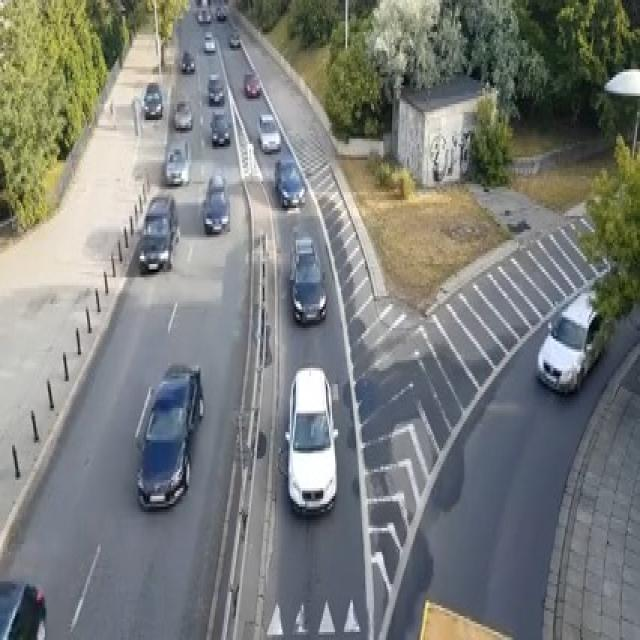car: (134, 360, 204, 509), (284, 365, 338, 515), (535, 288, 608, 395), (288, 235, 326, 325), (138, 192, 179, 272), (0, 576, 47, 637), (201, 171, 230, 232), (273, 157, 305, 208), (164, 139, 191, 184), (257, 112, 281, 152), (210, 109, 230, 147), (143, 83, 162, 117), (173, 98, 192, 130), (207, 72, 224, 104), (243, 72, 260, 96), (180, 51, 194, 72), (203, 32, 215, 51), (228, 29, 240, 48), (197, 6, 210, 22), (215, 5, 227, 19)
